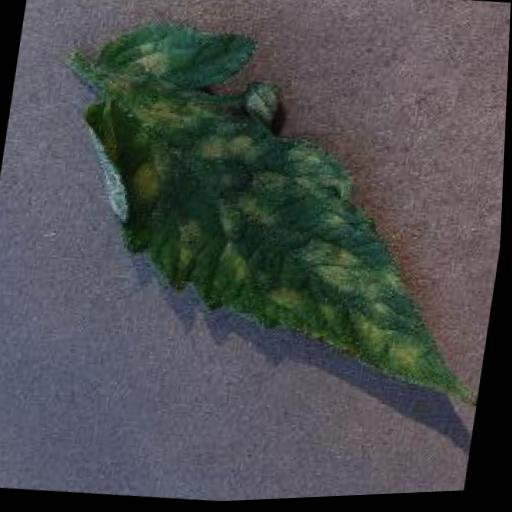Leaf Mold: (48, 2, 511, 425)
